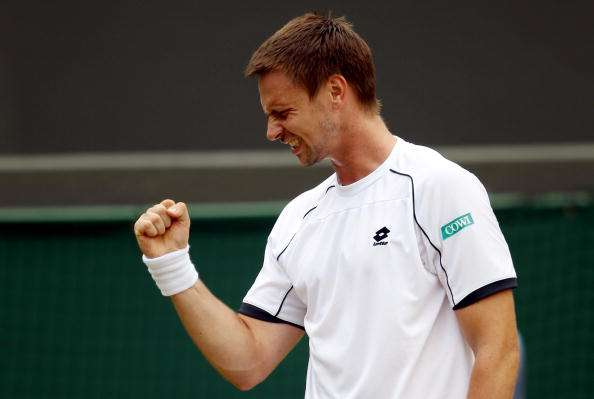no-phone: (129, 196, 191, 253)
